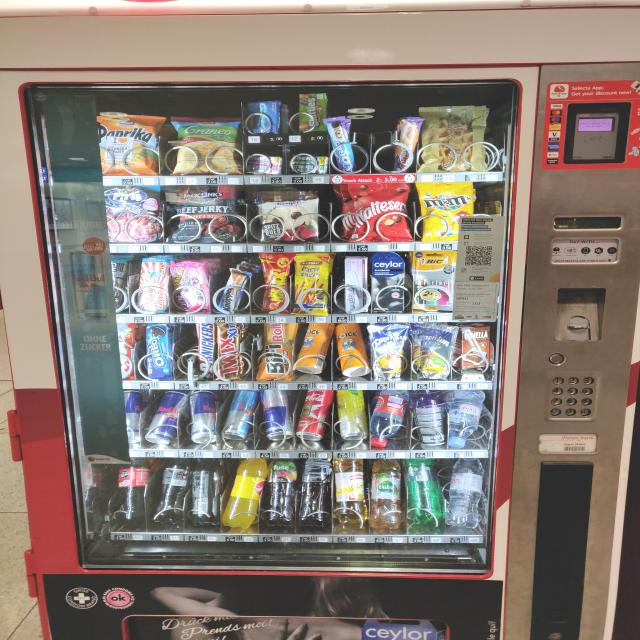airwaves_menthoneucalyptus_riegel_14_1_50173167: (238, 96, 283, 139)
bifi_roll__50__4251097402635: (253, 324, 295, 382)
c-swiss_dosenabisicetea__33__9120025930135: (295, 322, 336, 376), (336, 322, 370, 378)
caferoyal_classicmacchiato__33__7617014164487: (414, 394, 450, 446)
caprisun_multivitamin__20__4000177605004: (414, 322, 458, 381), (373, 323, 413, 383)
coke__dose_33__54491472: (292, 390, 333, 442)
coke__flasche_50__54491472: (114, 456, 157, 524)
coke_zero_flasche_50__5449000131836: (154, 458, 190, 524)
comella_schokodrink__33__7613100037253: (460, 323, 494, 368)
evian___50__3068320353500: (448, 391, 489, 448)
fini_galaxymix_packung_100_1_8410525150364: (103, 181, 160, 243)
fini_jellykisses_packung_80_1_8410525116704: (170, 258, 213, 312)
fuse_lemon__50__5449000235947: (298, 459, 332, 526)
fuse_lemon_dose_33__5449000235947: (335, 390, 370, 445)
fuse_peach__50__5449000236623: (262, 460, 300, 526)
henniez_rot__33__7610235000442: (369, 390, 410, 449)
jacklinks_beefjerkyorginal__25__4047751730219: (170, 186, 243, 243)
jlbrichard_gauffre__90__5410495002000: (417, 104, 489, 174)
kagi_specialedition__50__7610046000259: (135, 256, 168, 314)
knoppers_riegel____4035800488808: (217, 268, 249, 313)
lorenz_nicnacs__40__4018077798818: (260, 252, 294, 313)
malburner_partysticks__40__7610200279682: (288, 251, 328, 316)
maltesers___100__5000159023061: (334, 182, 419, 244)
mnms_gelb__45__40111445: (415, 180, 475, 244)
oreo___66__84100733: (145, 322, 177, 384)
pepsi_max__50__4060800105943: (189, 458, 222, 526)
ramseier_schorle__50__7610057012456: (330, 456, 370, 525)
redbull___33__90162909: (145, 392, 185, 447), (185, 392, 221, 446), (260, 389, 296, 442), (116, 390, 144, 444)
redbull_light__33__90162800: (220, 394, 260, 440)
sinalco_orange__50__4018715000112: (223, 458, 268, 532)
skittles_sour_riegel_51_1_0000000000004: (296, 95, 332, 132)
snickers___50__5000159461122: (194, 322, 218, 378)
stimorol_spearmint_riegel_14_1_0000000000005: (290, 154, 331, 174)
stimorol_wildcherry_riegel_14_1_57060330: (248, 154, 283, 175)
twix___50__5000159459228: (211, 320, 249, 381)
valser_classic__50__76404160: (406, 457, 444, 525)
zweifel_graneochilli__100__7610095184009: (171, 117, 242, 176)
zweifel_paprika__90__7610095013002: (87, 110, 161, 178)
